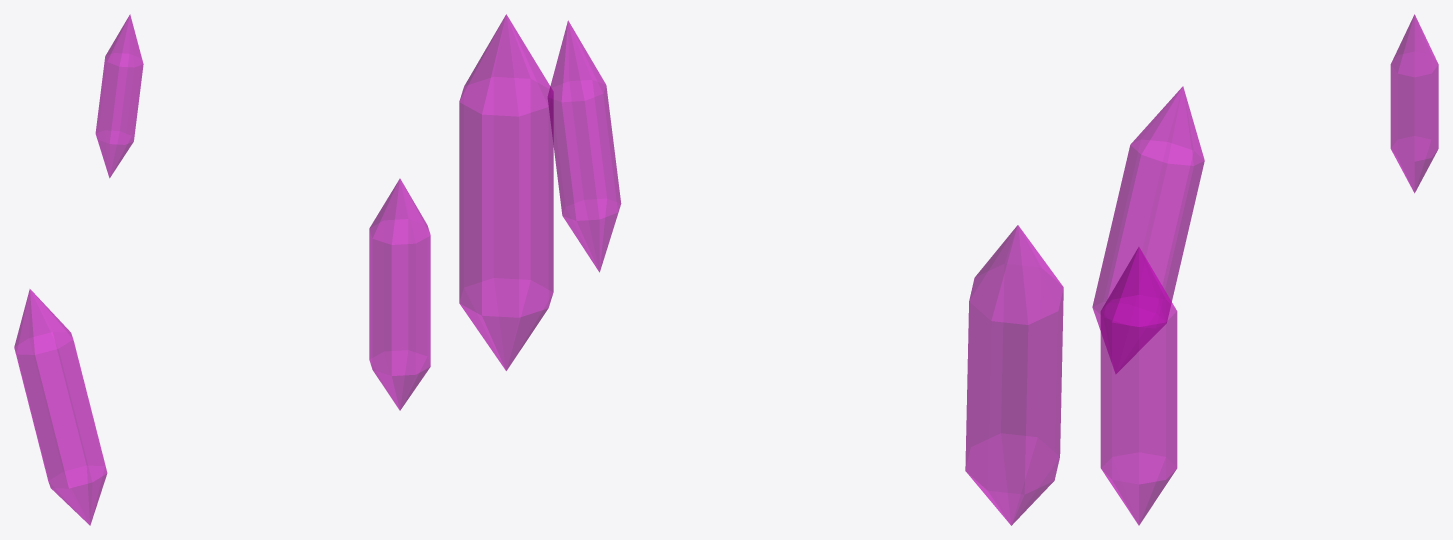
Rendered from SM_Prop_Wreck_Large_Back_01_Lamp_Collision.fbx.
3 renders of one model, left to right at view 1: azimuth 30°, elevation 25°; view 2: azimuth 150°, elevation 25°; view 3: azimuth 270°, elevation 25°, orthographic. The views are drawn at different scales.
Visible parts, largest first — view 1: SM_Prop_Wreck_Large_Back_01_Lamp_Collision; view 2: SM_Prop_Wreck_Large_Back_01_Lamp_Collision; view 3: SM_Prop_Wreck_Large_Back_01_Lamp_Collision.
Part boxes in pixels (<box>): SM_Prop_Wreck_Large_Back_01_Lamp_Collision: <box>14,14,430,525</box>; SM_Prop_Wreck_Large_Back_01_Lamp_Collision: <box>459,14,1063,525</box>; SM_Prop_Wreck_Large_Back_01_Lamp_Collision: <box>1092,14,1438,525</box>.
Size of the model in its own units: 1411 by 1286 by 883.
